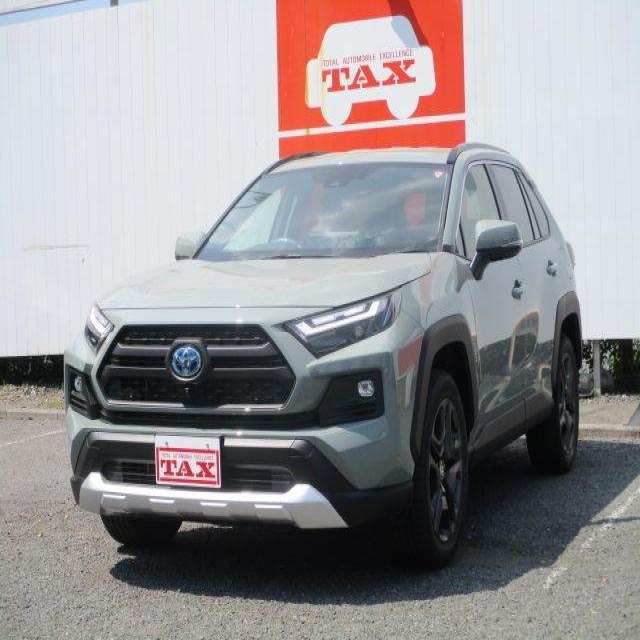light_vehicle: (63, 141, 585, 567)
